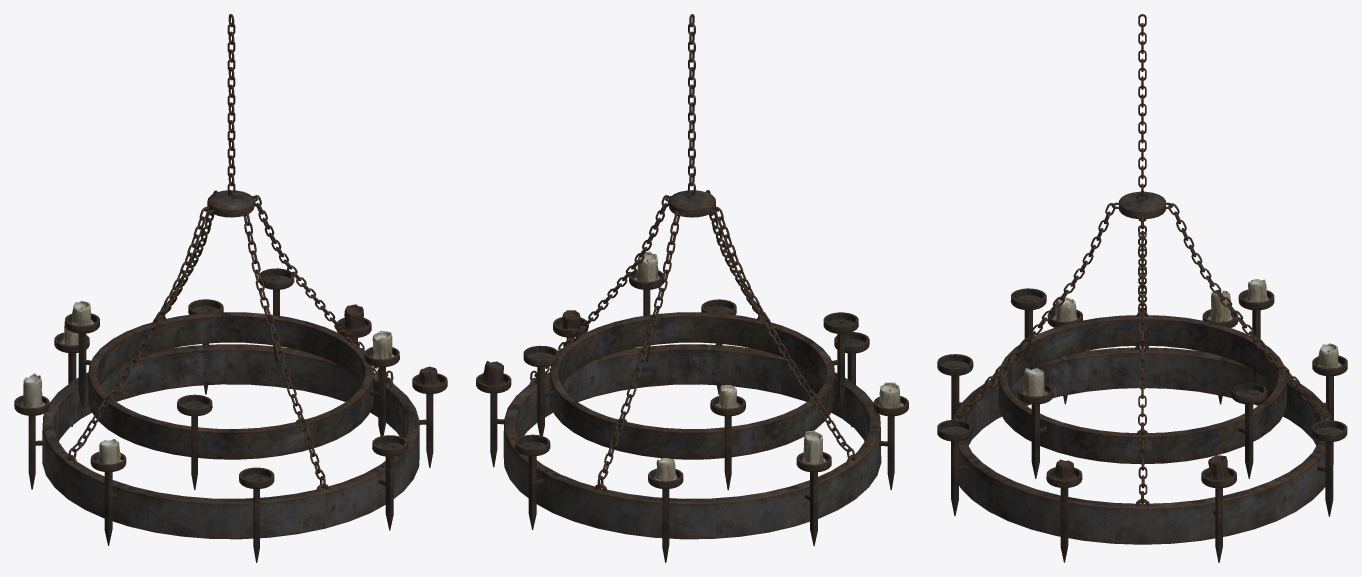
Rendered from sm_Chandelier_01_01.fbx.
The picture shows the model from 3 angles, left to right: view 1: azimuth 30°, elevation 25°; view 2: azimuth 150°, elevation 25°; view 3: azimuth 270°, elevation 25°; orthographic projection.
Visible parts, largest first — view 1: sm_Chandelier_01_01_LOD0; view 2: sm_Chandelier_01_01_LOD0; view 3: sm_Chandelier_01_01_LOD0.
Boxes of the visible parts, <box> form: sm_Chandelier_01_01_LOD0: <box>14,14,447,562</box>; sm_Chandelier_01_01_LOD0: <box>476,14,908,562</box>; sm_Chandelier_01_01_LOD0: <box>937,14,1347,562</box>.
Size of the model in its own units: 273 by 273 by 344.
